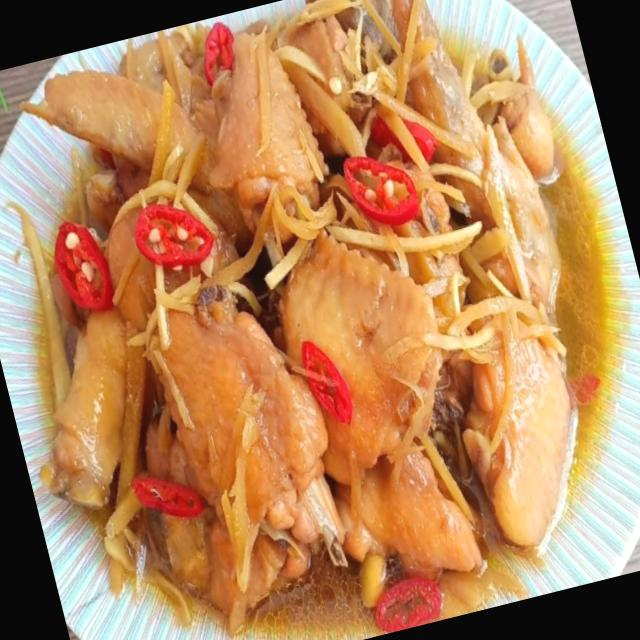ga kho: (24, 0, 570, 630)
rau: (11, 0, 640, 640)
